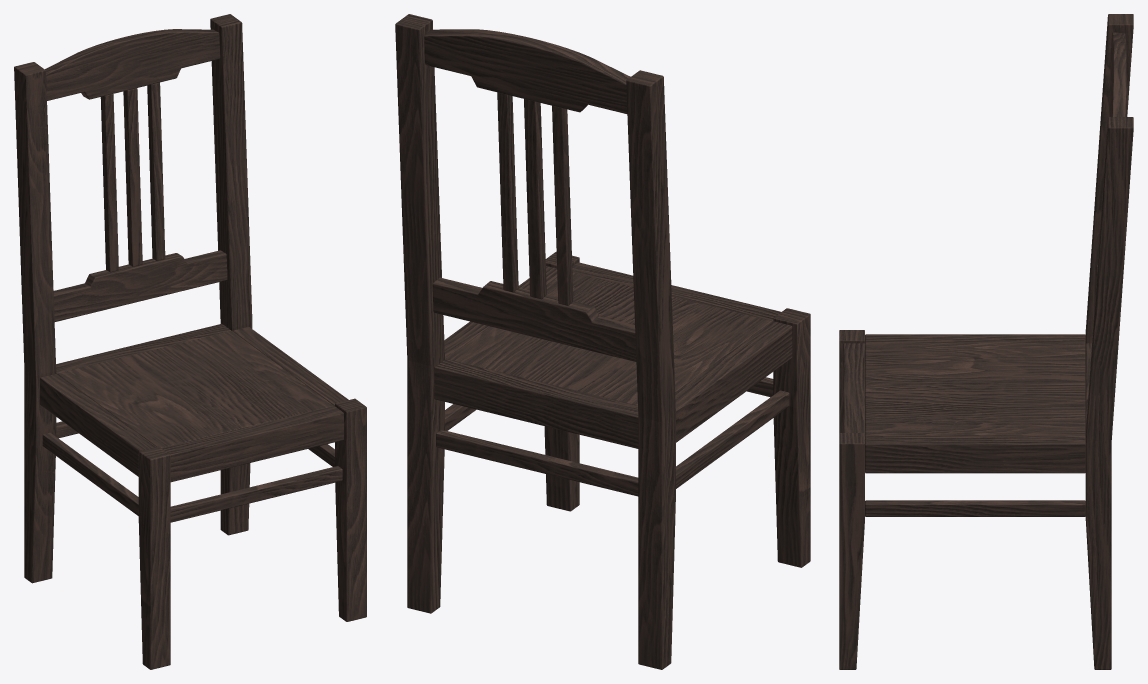
File: wooden_chair.glb
3 views of the same model, side by side, from view 1: azimuth 30°, elevation 25°; view 2: azimuth 150°, elevation 25°; view 3: azimuth 270°, elevation 25° (orthographic). The views are drawn at different scales.
Parts seen in each view (by area): view 1: Cube.009_0; view 2: Cube.009_0; view 3: Cube.009_0.
Boxes of the visible parts, box(x1,y1,x2,y2) form: Cube.009_0: box(14, 14, 366, 669); Cube.009_0: box(395, 14, 810, 669); Cube.009_0: box(839, 14, 1133, 669).
Bounding box in the file's own units: 0.4647 × 1.05 × 0.5074.
1 material, 1 textured.
